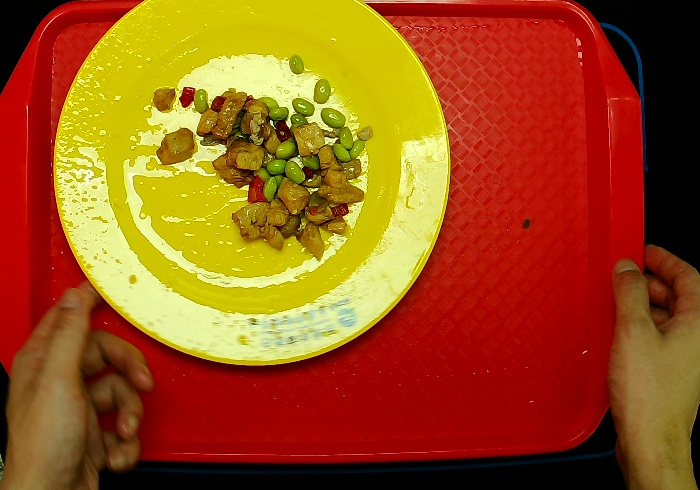YKMZ-Huang_Se_Mian_Pan: (48, 1, 455, 363)
